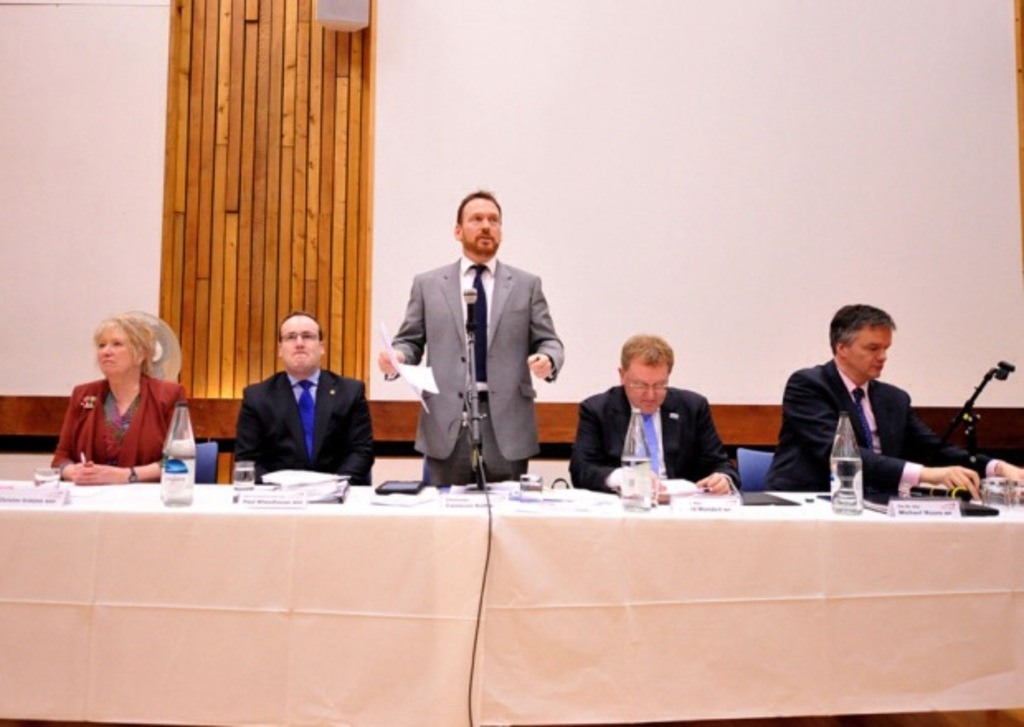Person: (49, 190, 1024, 500)
